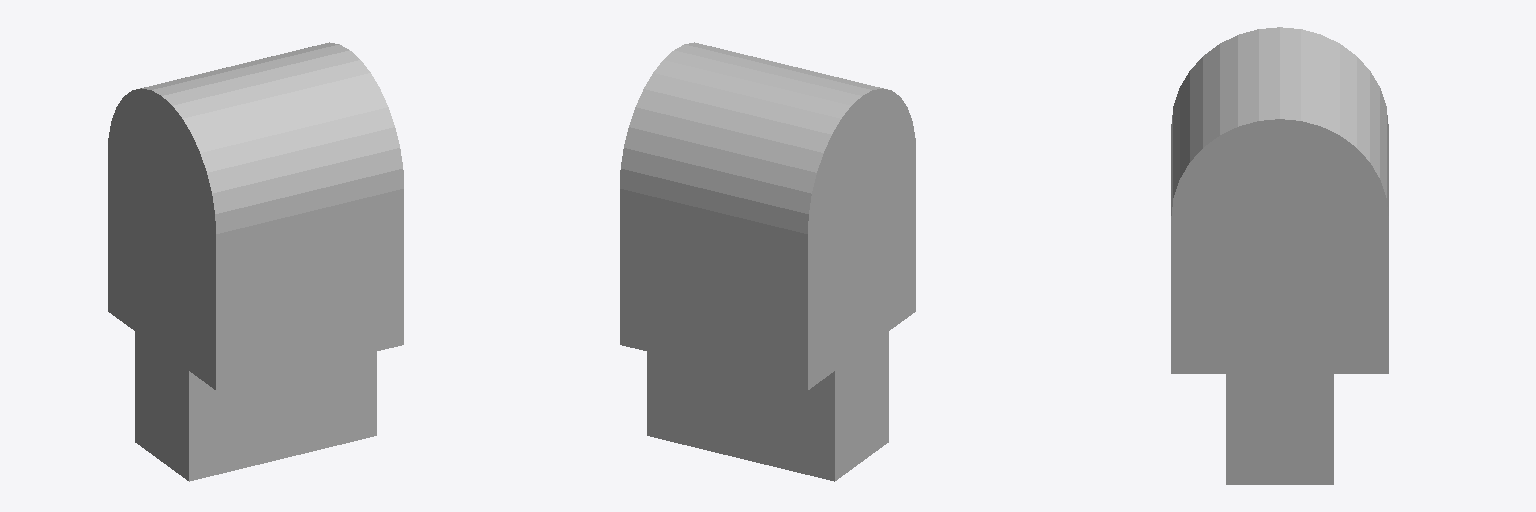
The model's file is body_l_dist_pinvround.obj.
3 renders of one model, left to right at view 1: azimuth 30°, elevation 25°; view 2: azimuth 150°, elevation 25°; view 3: azimuth 270°, elevation 25°, orthographic.
Visible parts, largest first — view 1: body_l_dist_pinvround_Cube.681; view 2: body_l_dist_pinvround_Cube.681; view 3: body_l_dist_pinvround_Cube.681.
Part boxes in pixels (x1,y1,x2,y2): body_l_dist_pinvround_Cube.681: (108,42,403,481); body_l_dist_pinvround_Cube.681: (620,42,915,481); body_l_dist_pinvround_Cube.681: (1171,27,1388,484).
Size of the model in its own units: 0.02 by 0.0371 by 0.02.